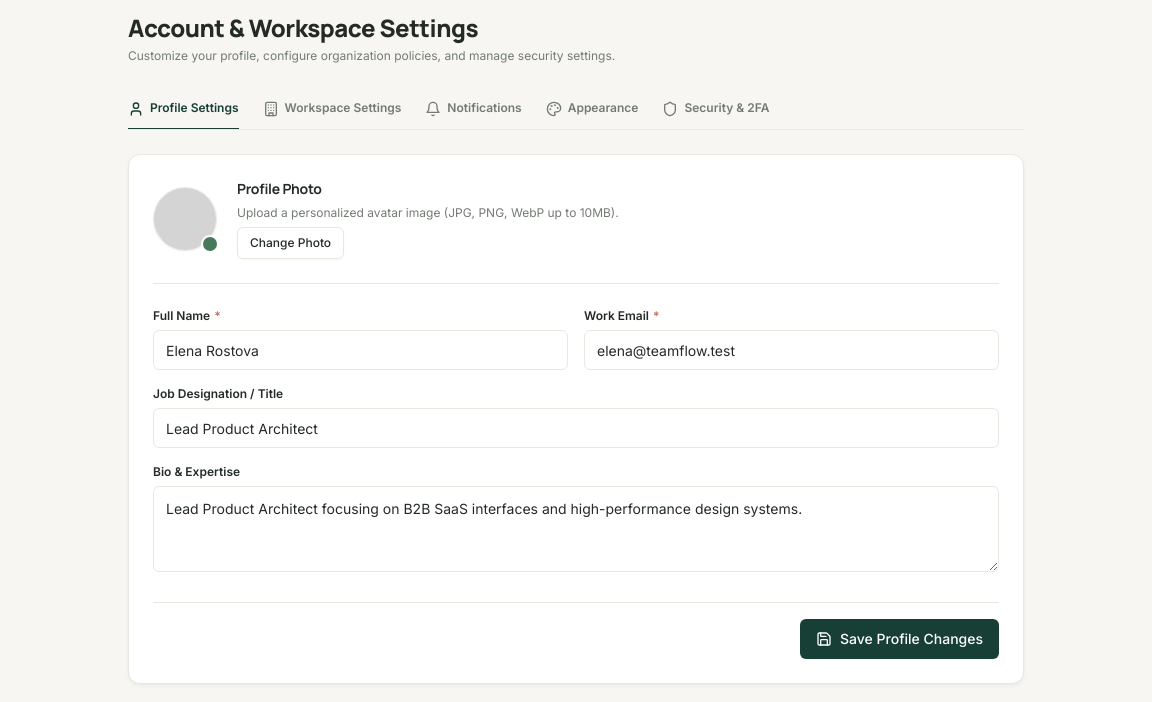
Test: Stage 09: File Uploads, Task Attachments, and Assets › renders Workspace Settings with Logo upload input in SettingsPage
Note: Click Workspace Settings Tab
Click the tab "Workspace Settings" at point(332, 109), box [263,88,401,130]
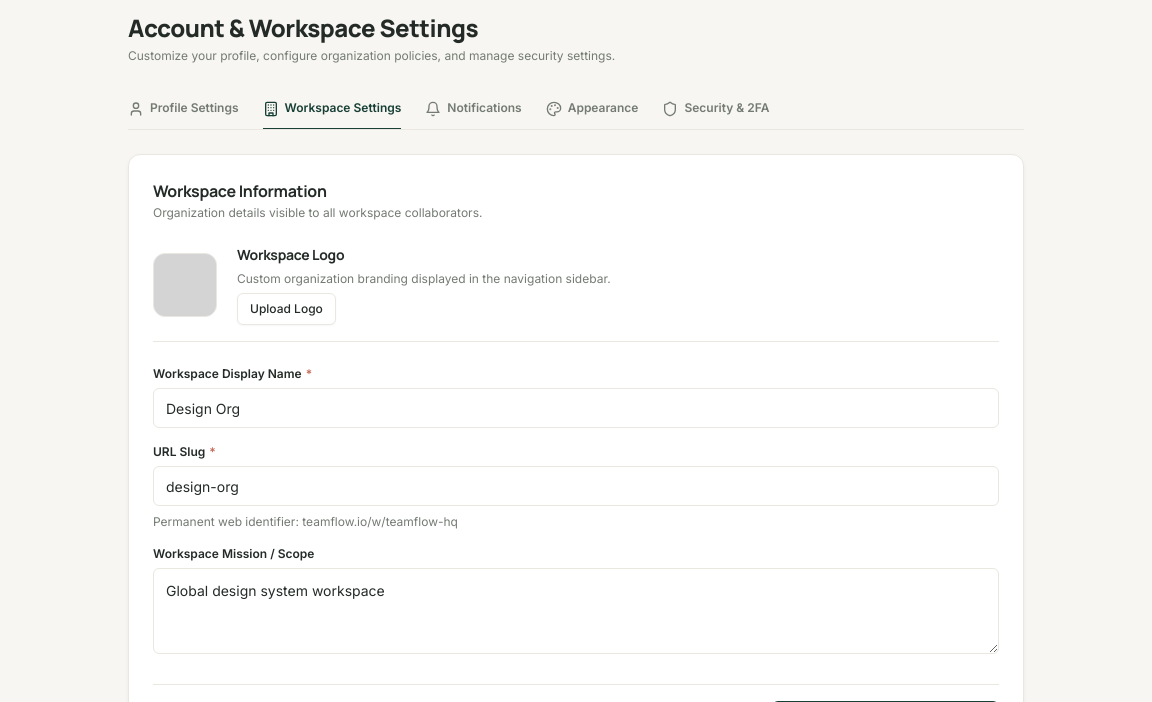
expect the element with test id "workspace-logo-input" is shown: met, box [237,245,611,325]
expect the heading "Workspace Logo" is shown: met, box [237,245,344,264]
expect the button "Upload Logo" is shown: met, box [237,293,336,325]
